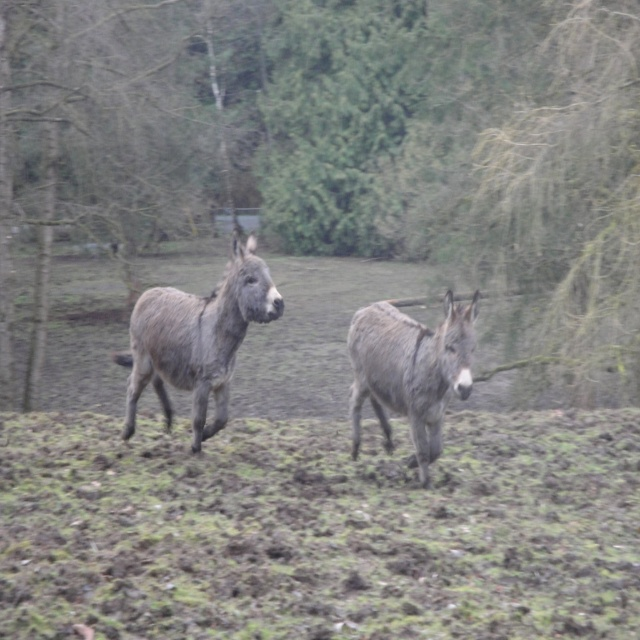Mule: (120, 236, 285, 460), (333, 276, 484, 487)
